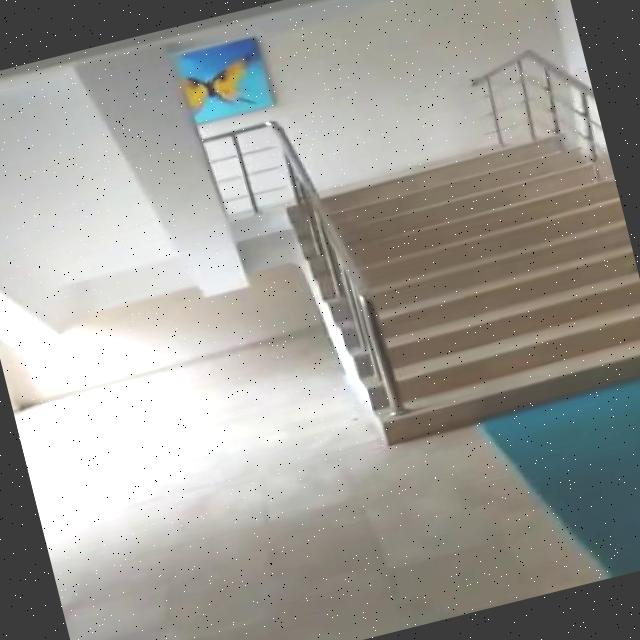stairs: (301, 122, 640, 447)
